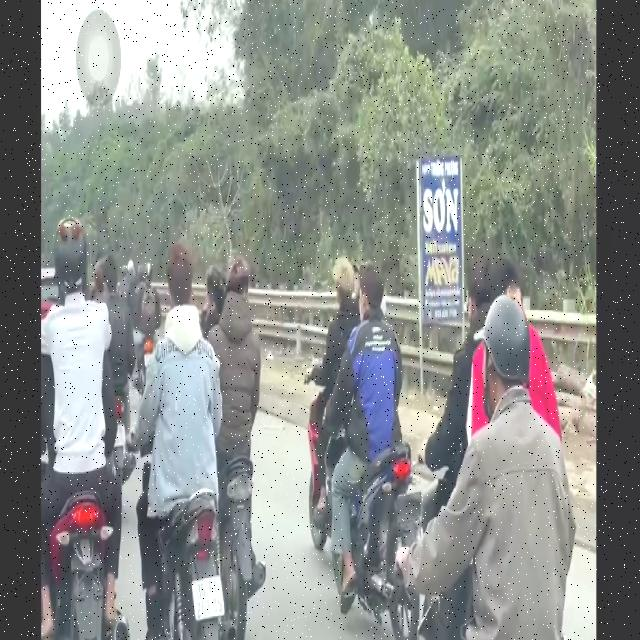helmet: (54, 205, 91, 312)
no_helmet: (166, 250, 195, 322), (359, 253, 383, 330), (332, 251, 355, 313)
